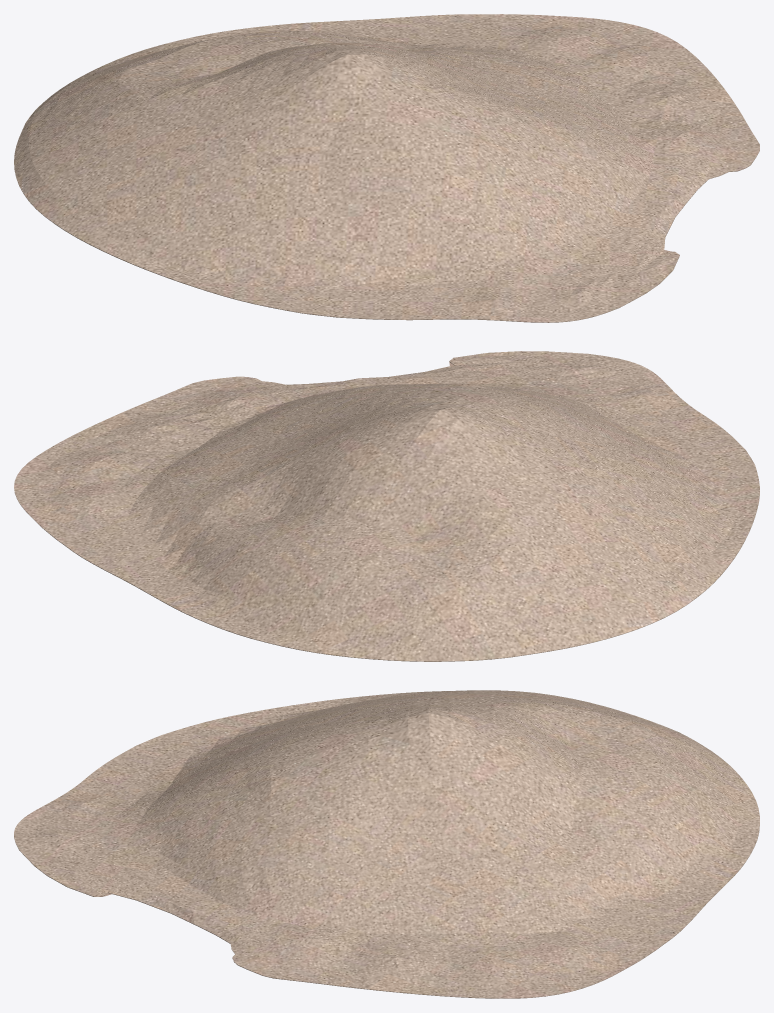
Rendered from tasDeSable.glb.
3 views of the same model, one above another, from view 1: azimuth 30°, elevation 25°; view 2: azimuth 150°, elevation 25°; view 3: azimuth 270°, elevation 25° (orthographic). The views are drawn at different scales.
Size of the model in its own units: 95.08 by 15.71 by 97.51.
Materials: 1 (1 with a texture image).
